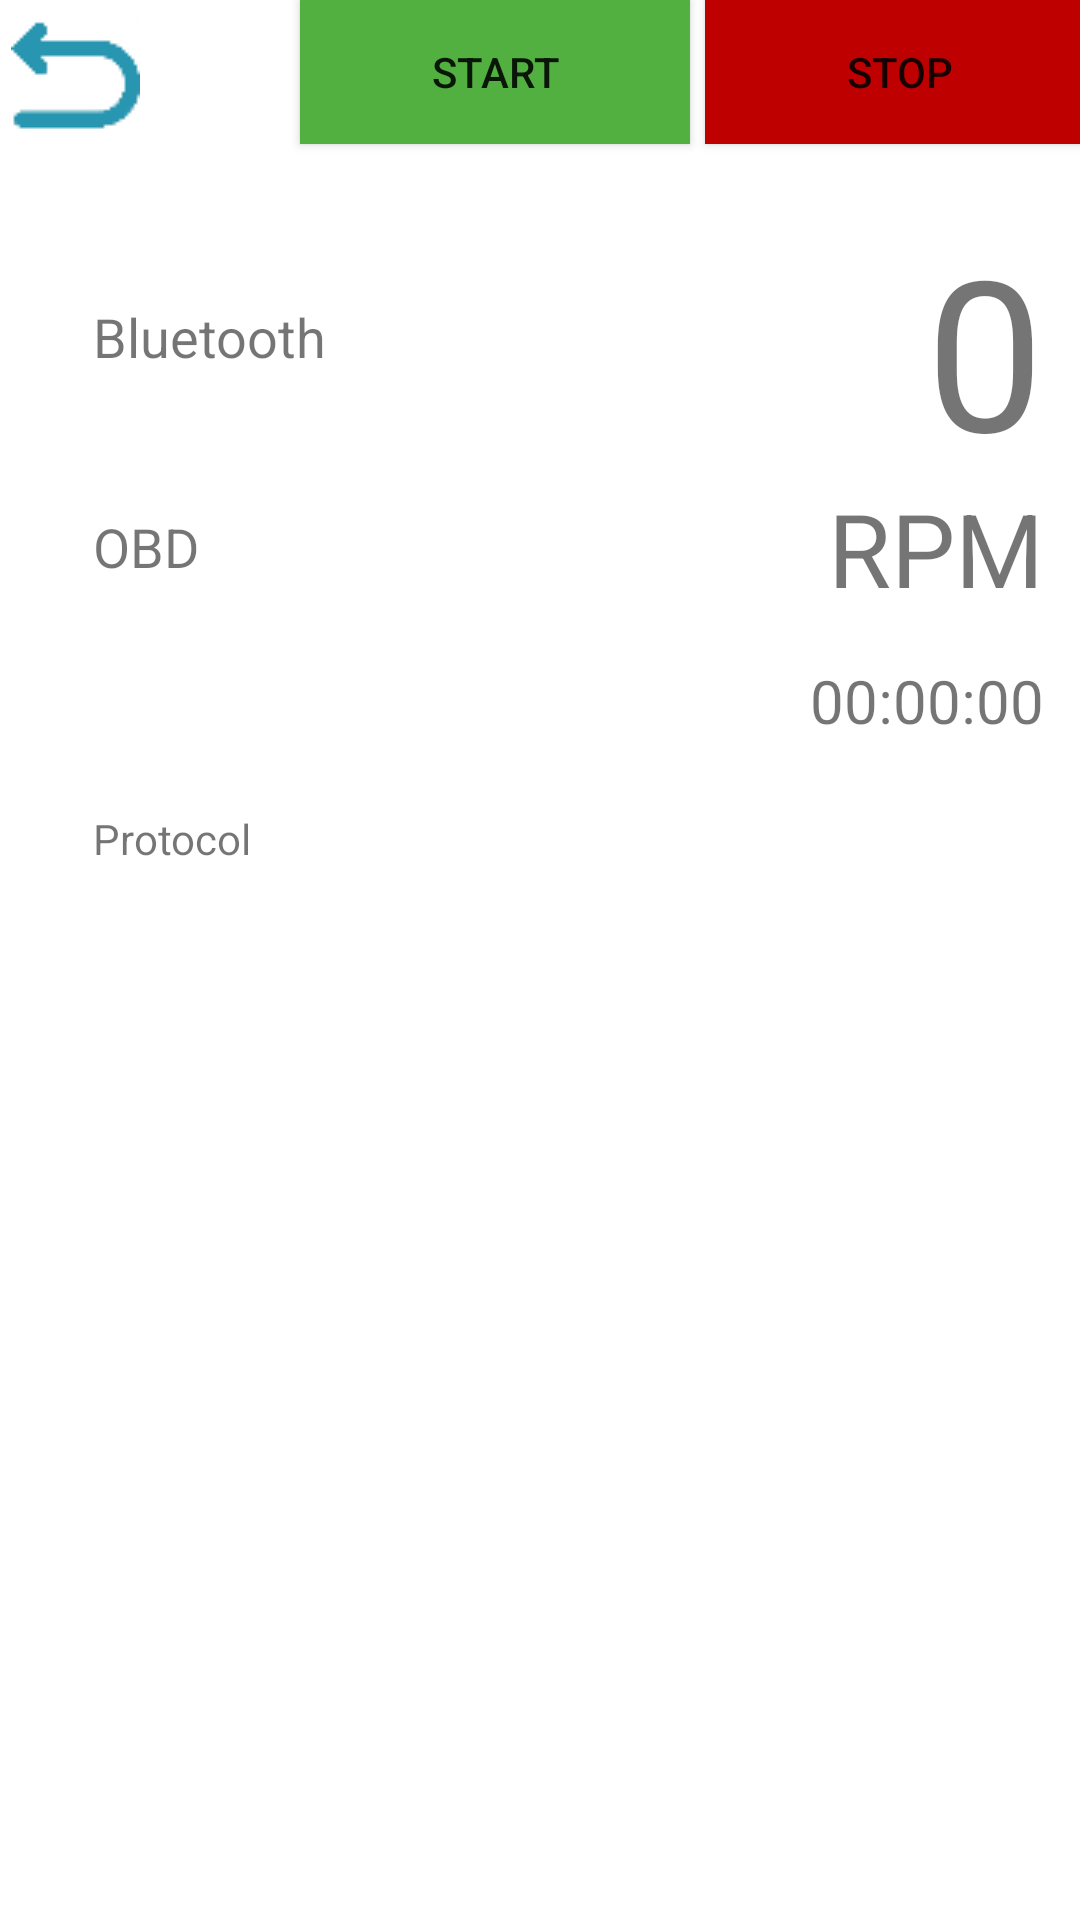

Point at icon controls on the screen. Image size 1080w x 1920h, points as point (x, y).
back: point (75, 75)
